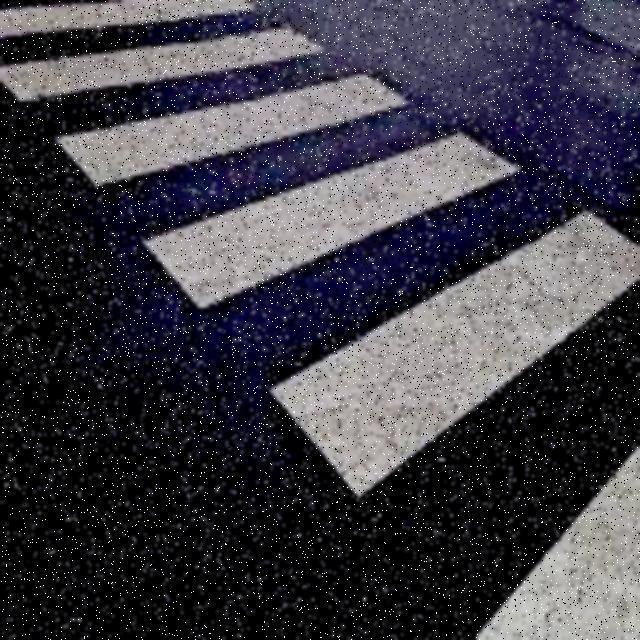crosswalk: (0, 1, 640, 640)
